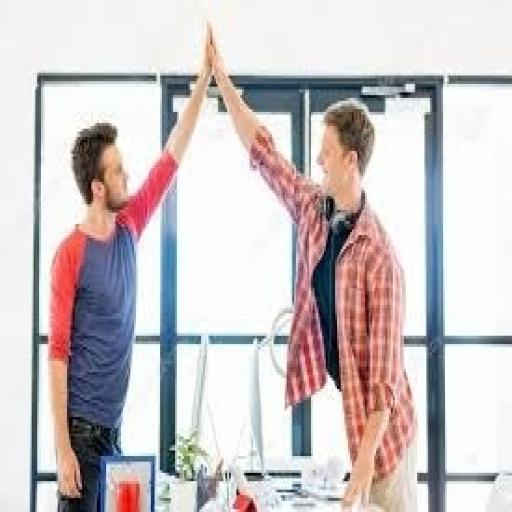clapping: (205, 20, 421, 509), (45, 20, 216, 509)
